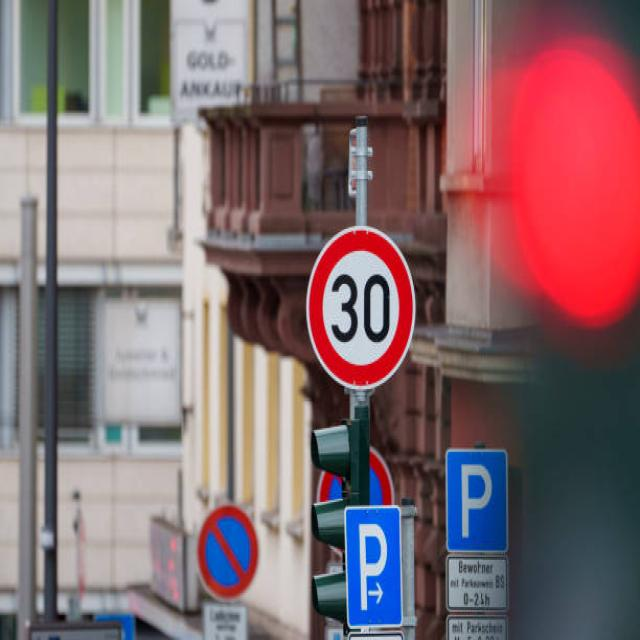Speed limit 30: (305, 222, 419, 393)
